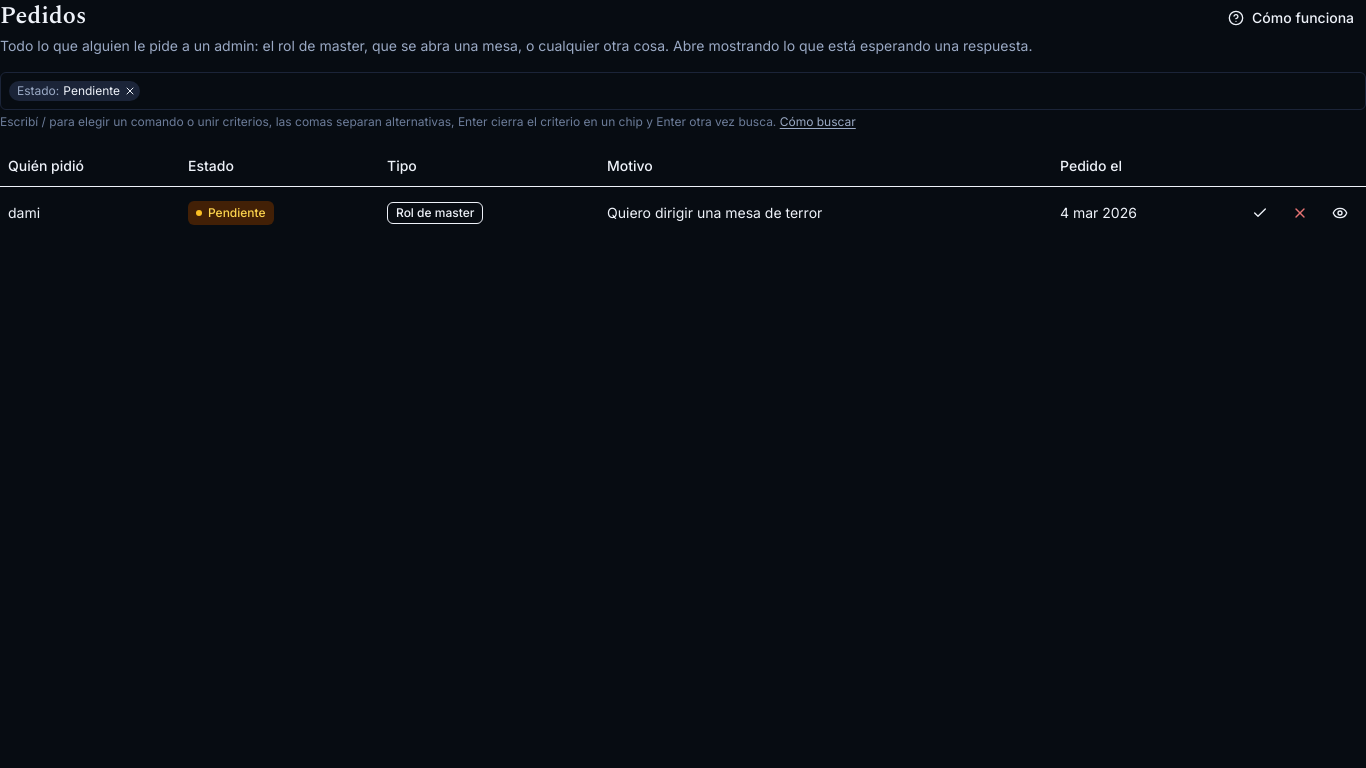
AdminRequestsPage › documents its own search commands
The image size is (1366, 768).
Click the button "Cómo buscar" at (818, 122), box top-left (780, 114), bottom-right (856, 130)
(page scrolled)
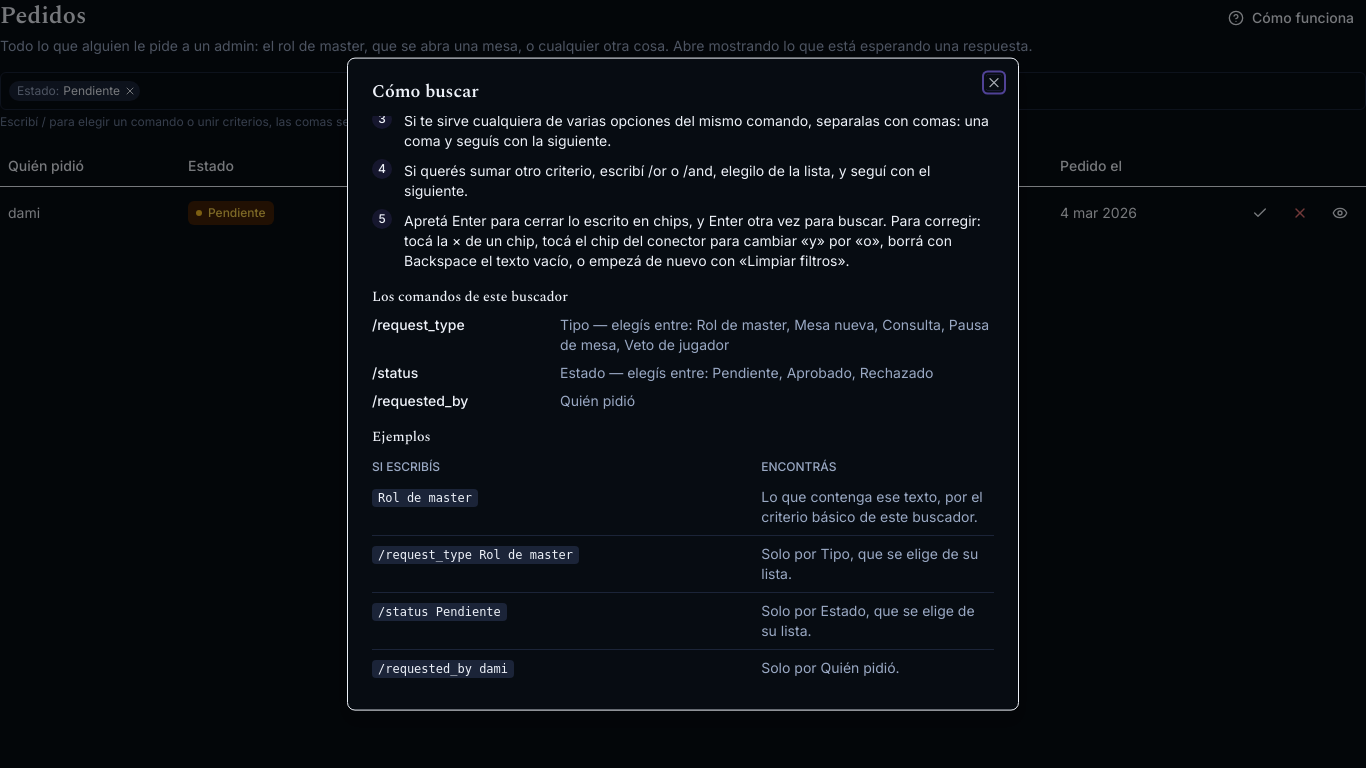
Expected: the text "/request_type" is shown, top-left (372, 316), bottom-right (465, 333)
Expected: the text "/status" is shown, top-left (372, 364), bottom-right (418, 381)
Expected: the text "/requested_by" is shown, top-left (372, 392), bottom-right (468, 409)
